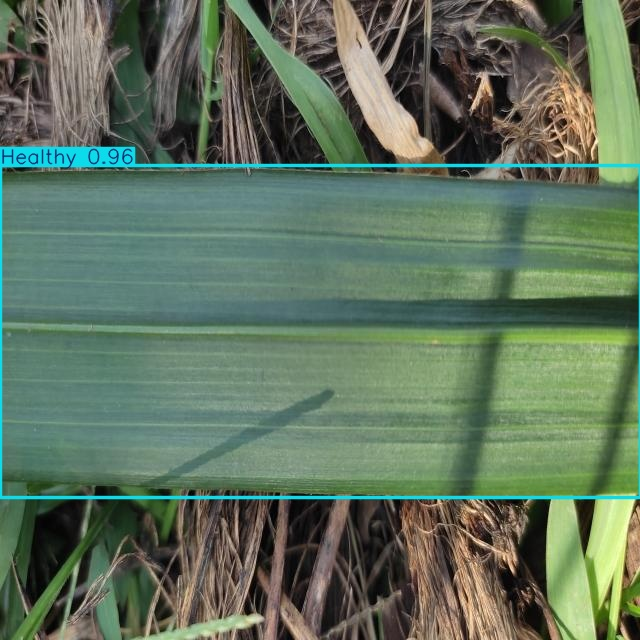Healthy: (0, 166, 640, 498)
